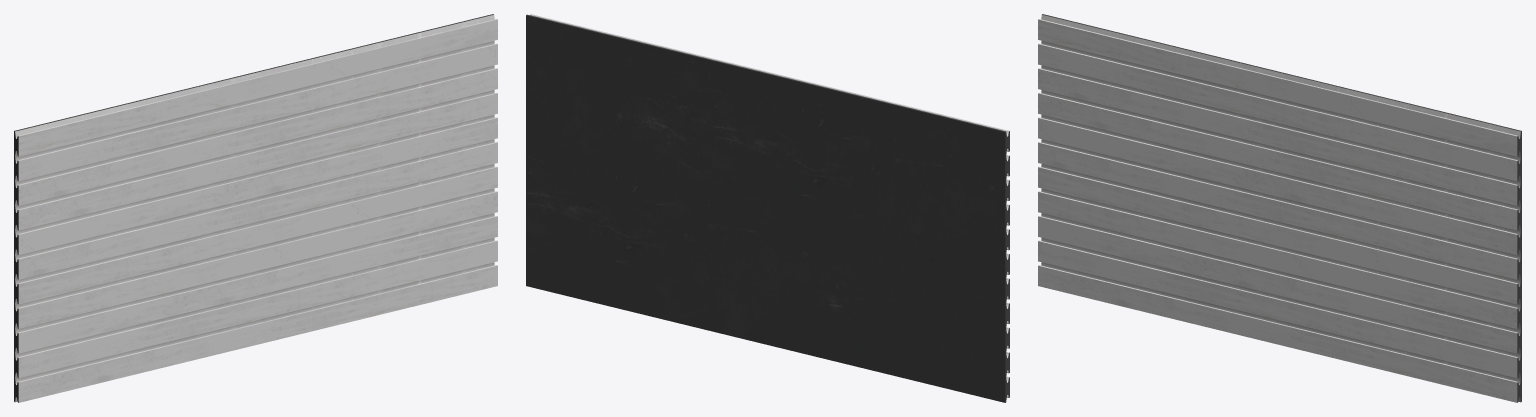
The model's file is SM_Gun_Display_02b.glb.
3 renders of one model, left to right at view 1: azimuth 30°, elevation 25°; view 2: azimuth 150°, elevation 25°; view 3: azimuth 330°, elevation 25°, orthographic.
Visible parts, largest first — view 1: SM_Gun_Display_02b; view 2: SM_Gun_Display_02b; view 3: SM_Gun_Display_02b.
Boxes of the visible parts, box(x1,y1,x2,y2) form: SM_Gun_Display_02b: box(14, 14, 497, 402); SM_Gun_Display_02b: box(526, 14, 1009, 402); SM_Gun_Display_02b: box(1038, 14, 1521, 402).
Bounding box in the file's own units: 2.29 × 1.24 × 0.0386.
1 material, 1 textured.
